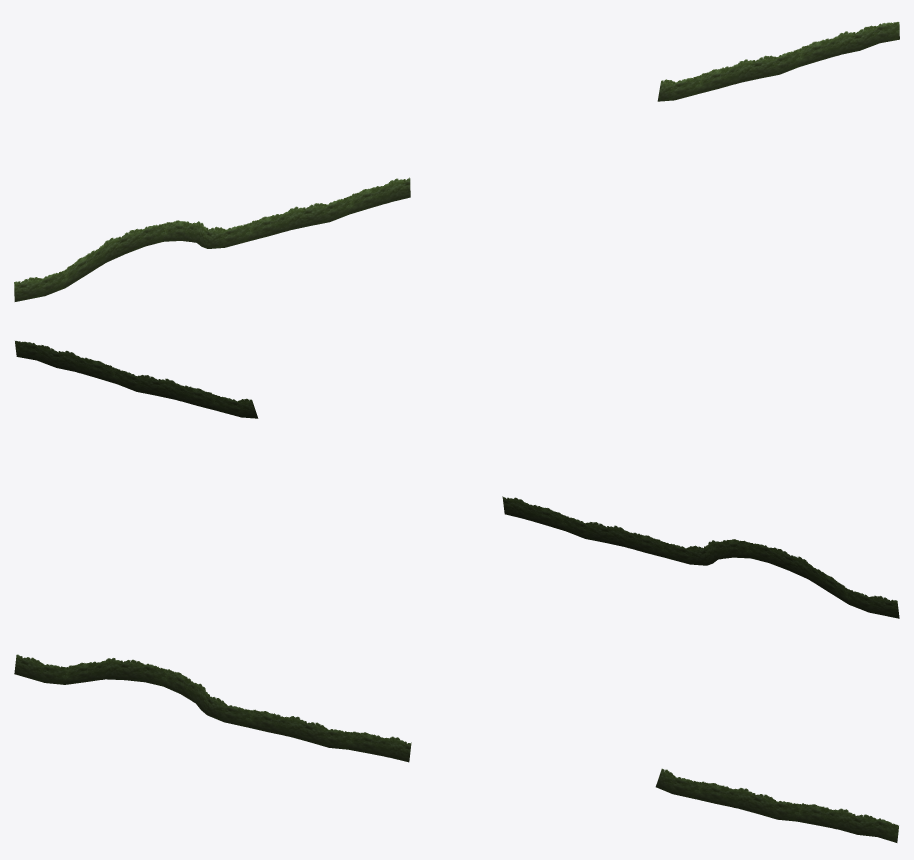
File: Castle Tower_Grass BG.FBX
3 views of the same model, one above another, from view 1: azimuth 30°, elevation 25°; view 2: azimuth 150°, elevation 25°; view 3: azimuth 330°, elevation 25° (orthographic).
Parts seen in each view (by area): view 1: Grass Landscape BG; view 2: Grass Landscape BG; view 3: Grass Landscape BG.
Boxes of the visible parts, bbox=[...] form: Grass Landscape BG: bbox=[14, 22, 899, 301]; Grass Landscape BG: bbox=[15, 341, 899, 618]; Grass Landscape BG: bbox=[14, 654, 898, 842].
Bounding box in the file's own units: 16995 × 62.99 × 1386.
